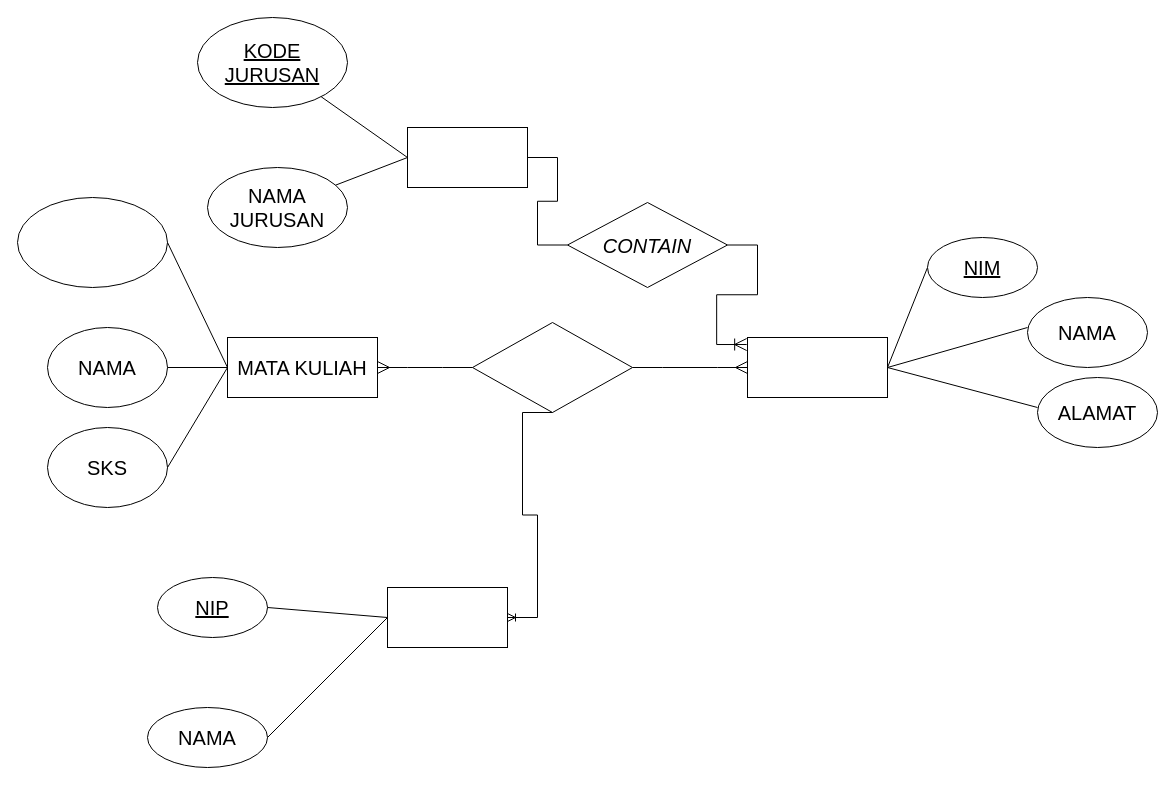
Some shapes in this 1175 by 785 pixel diagram are drawn without their labels. Each missing label, with the centre of its shape:
"DOSEN" belongs at [447,617].
"JURUSAN" belongs at [467,157].
"KODE MATA KULIAH" belongs at [92,242].
"KONTRAK" belongs at [552,367].
"MAHASISWA" belongs at [817,367].
